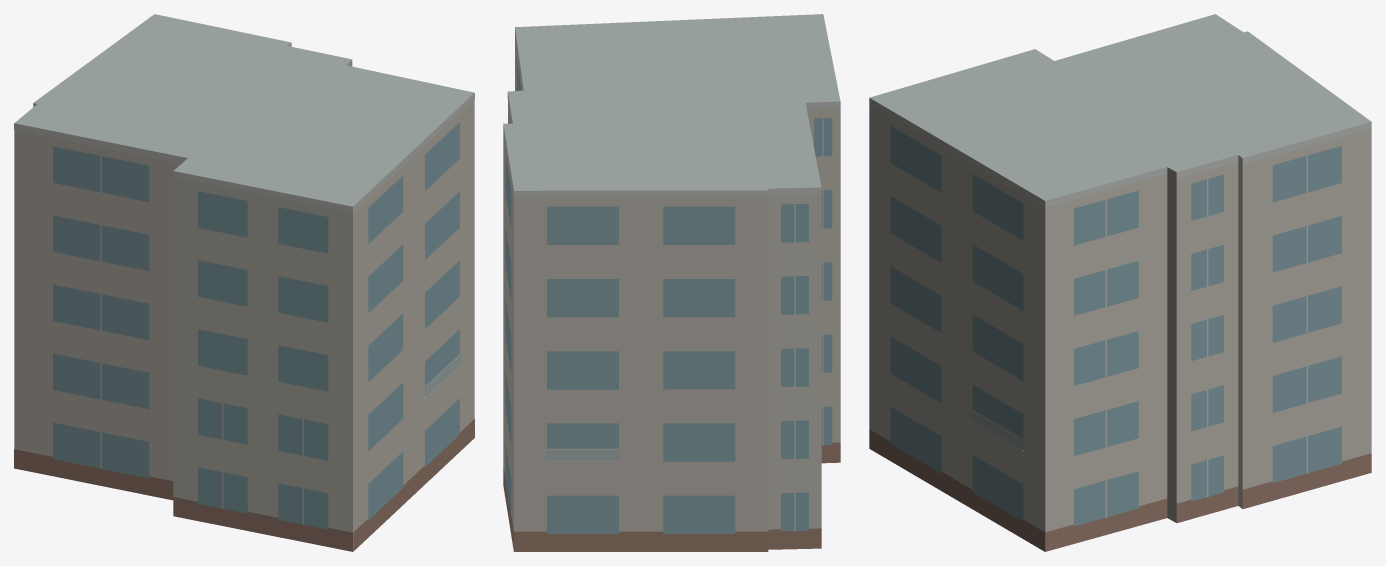
File: survey-upis-32791549.glb
3 renders of one model, left to right at view 1: azimuth 30°, elevation 25°; view 2: azimuth 150°, elevation 25°; view 3: azimuth 270°, elevation 25°, orthographic. The views are drawn at different scales.
Parts seen in each view (by area): view 1: survey-upis-32791549.tmp; view 2: survey-upis-32791549.tmp; view 3: survey-upis-32791549.tmp.
Part boxes in pixels (x1,y1,x2,y2): survey-upis-32791549.tmp: (14,14,474,551); survey-upis-32791549.tmp: (503,14,840,551); survey-upis-32791549.tmp: (869,14,1371,551).
Bounding box in the file's own units: 14.86 × 13 × 16.87.
